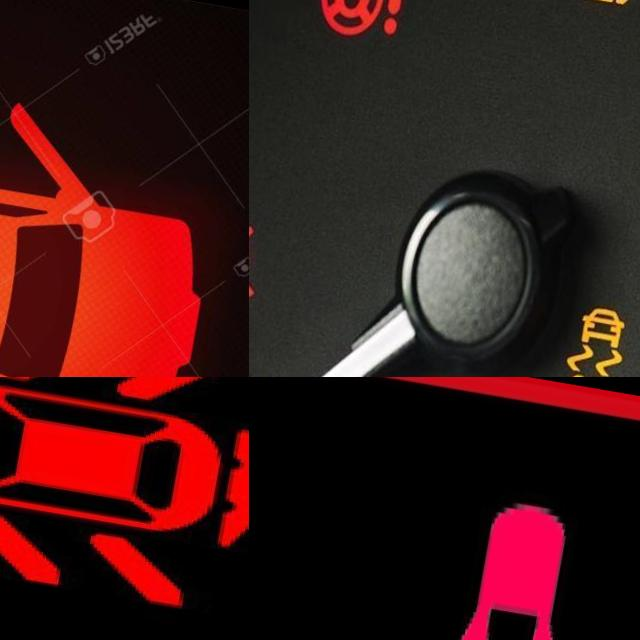Electronic Power Steering: (323, 0, 413, 33)
Seat Belt: (249, 210, 278, 317)
